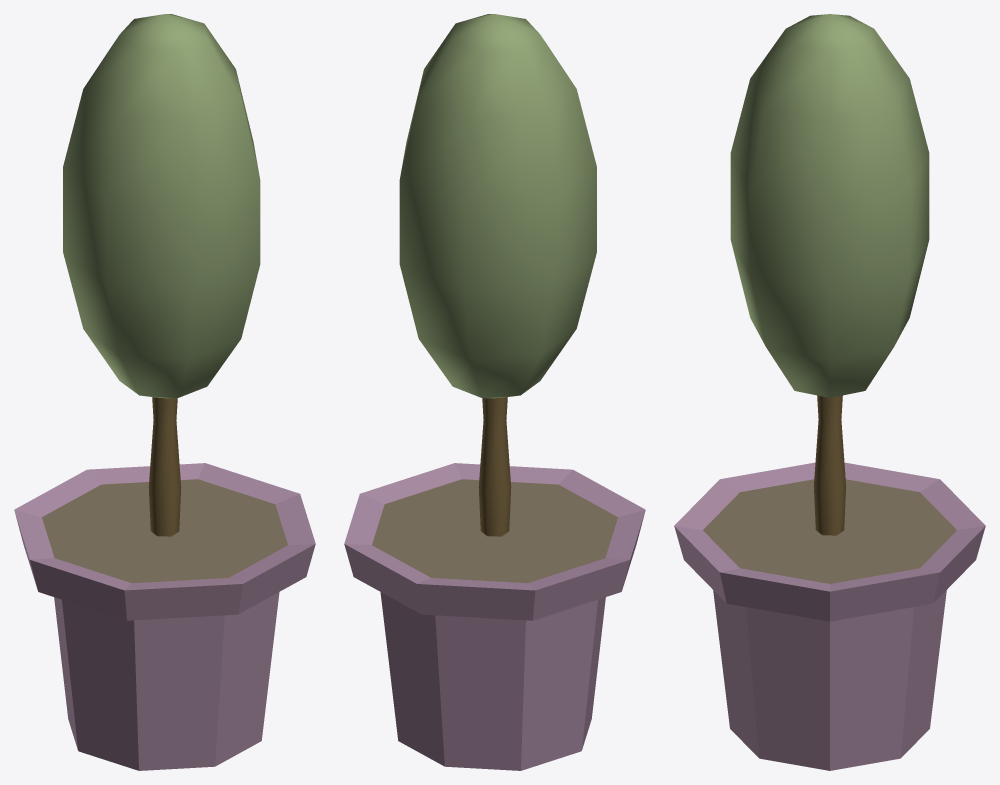
The model's file is PotPlant_Mesh.fbx.
3 renders of one model, left to right at view 1: azimuth 30°, elevation 25°; view 2: azimuth 150°, elevation 25°; view 3: azimuth 270°, elevation 25°, orthographic.
Parts seen in each view (by area): view 1: pCylinder8; view 2: pCylinder8; view 3: pCylinder8.
Boxes of the visible parts, x1,y1,x2,y2 form: pCylinder8: [14, 14, 315, 770]; pCylinder8: [344, 14, 645, 770]; pCylinder8: [674, 14, 985, 770].
Size of the model in its own units: 3.56 by 9 by 3.56.
